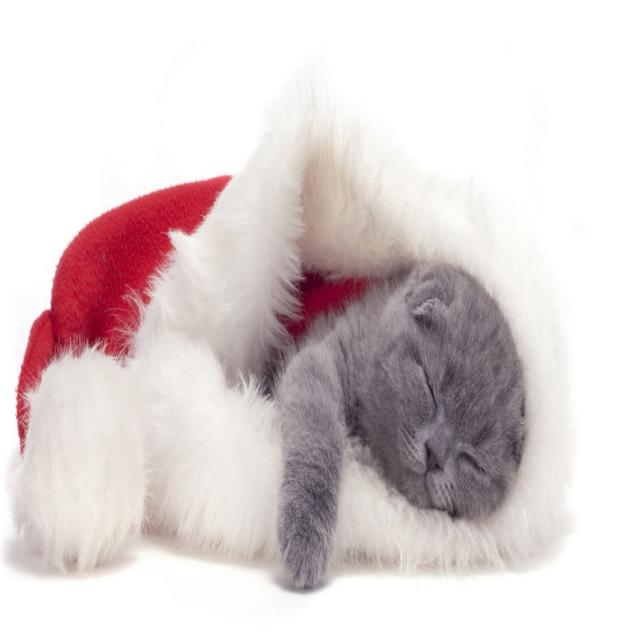Scottish Fold: (272, 242, 531, 600)
